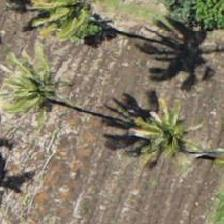coconut_tree: (126, 90, 216, 180), (0, 45, 82, 135)
